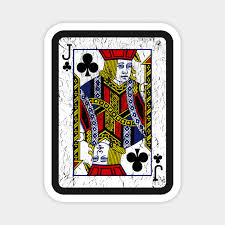jack of clubs: (52, 29, 167, 188)
